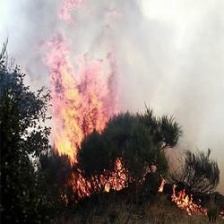fire: (44, 38, 207, 214)
